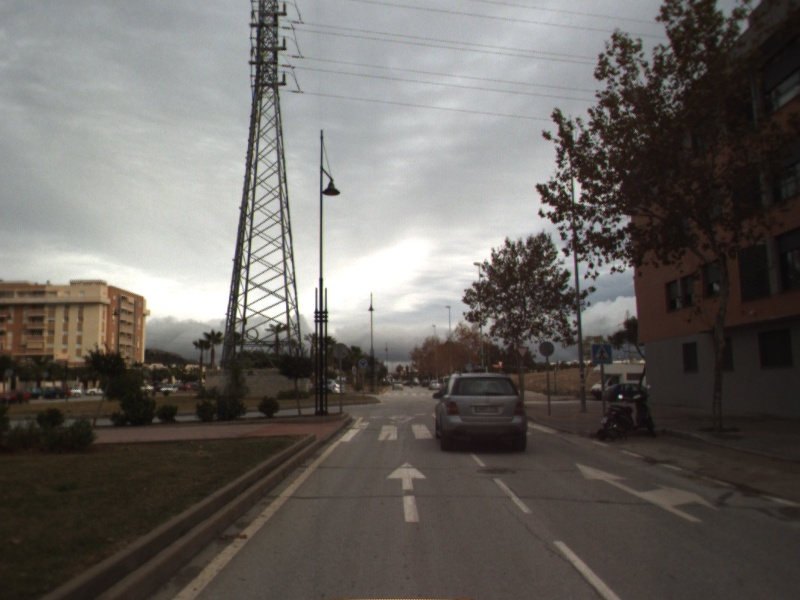STRAIGHT: (384, 459, 430, 524)
STRAIGHT_RIGHT: (573, 461, 723, 524)
